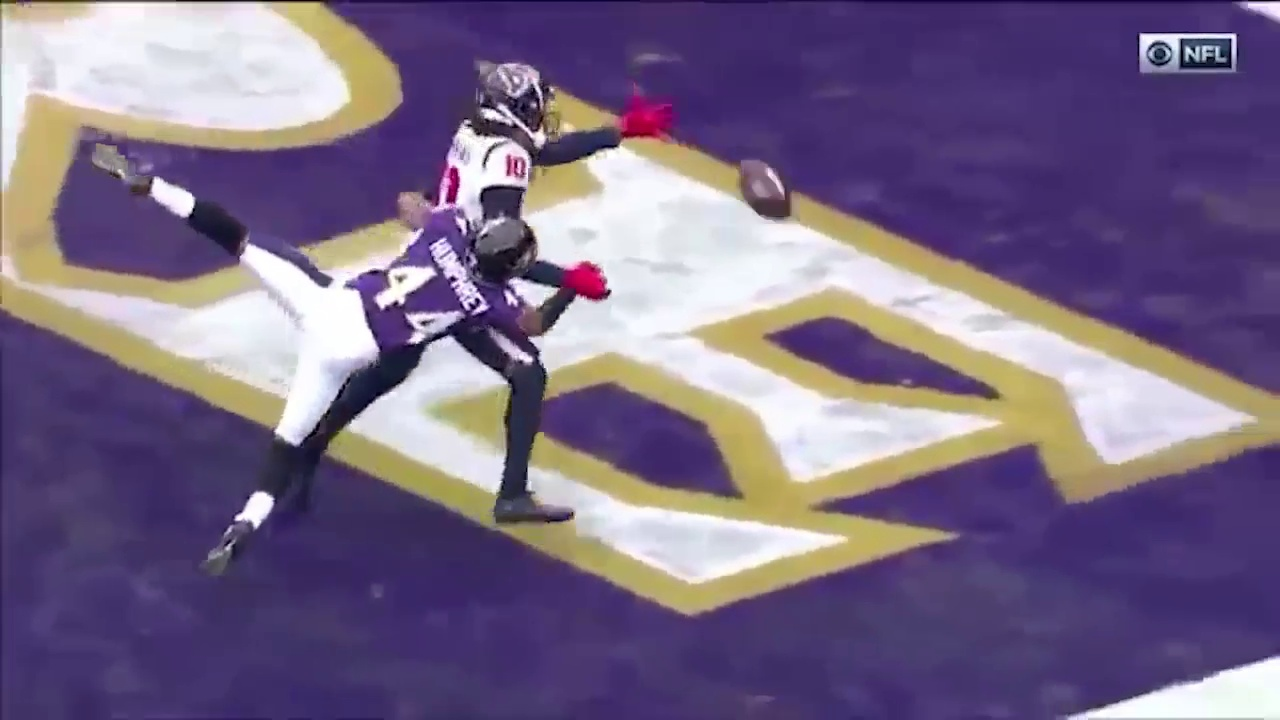football: (732, 167, 813, 224)
